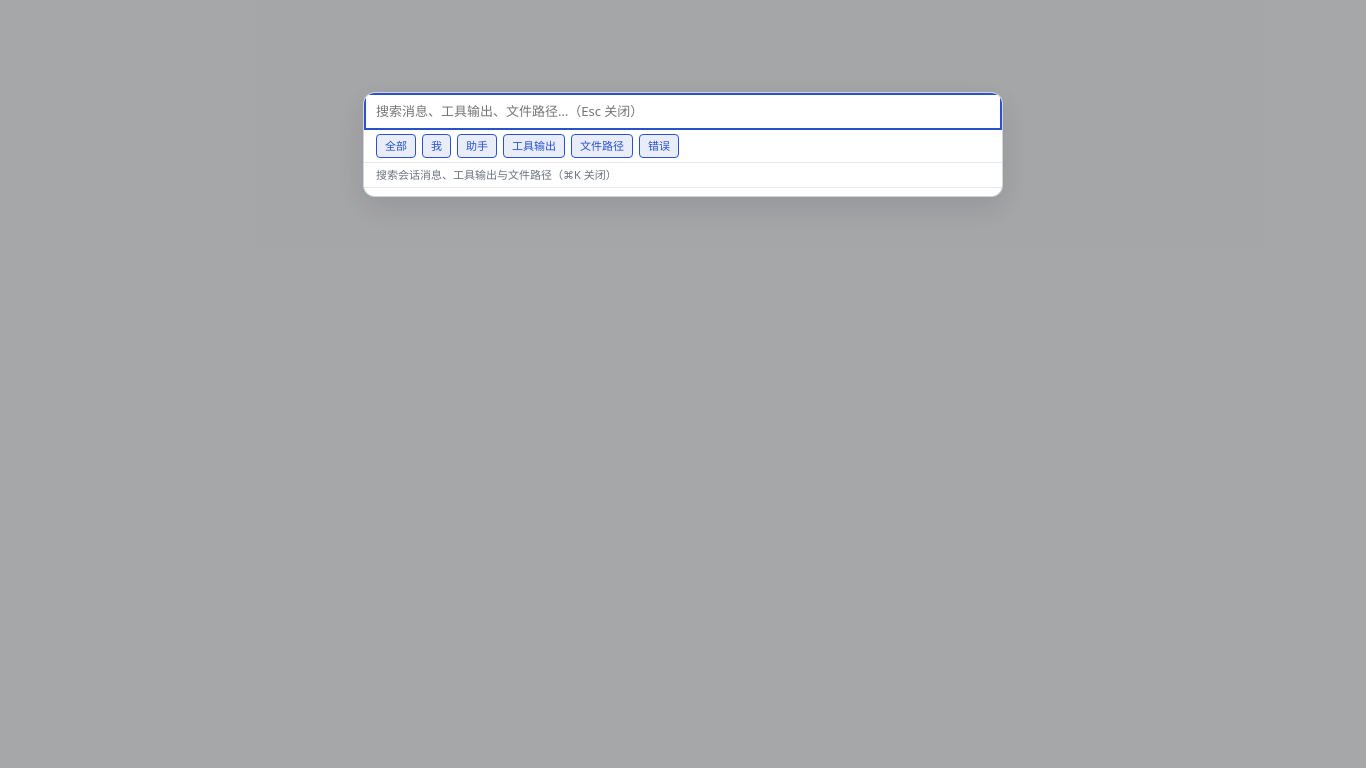
Test: SearchPalette › 无命中且索引完成 → 明确说没有匹配，并给出已索引条目数
Type "不存在的词" into the field named "搜索会话记录" at (683, 112), box [364,93,1002,130]
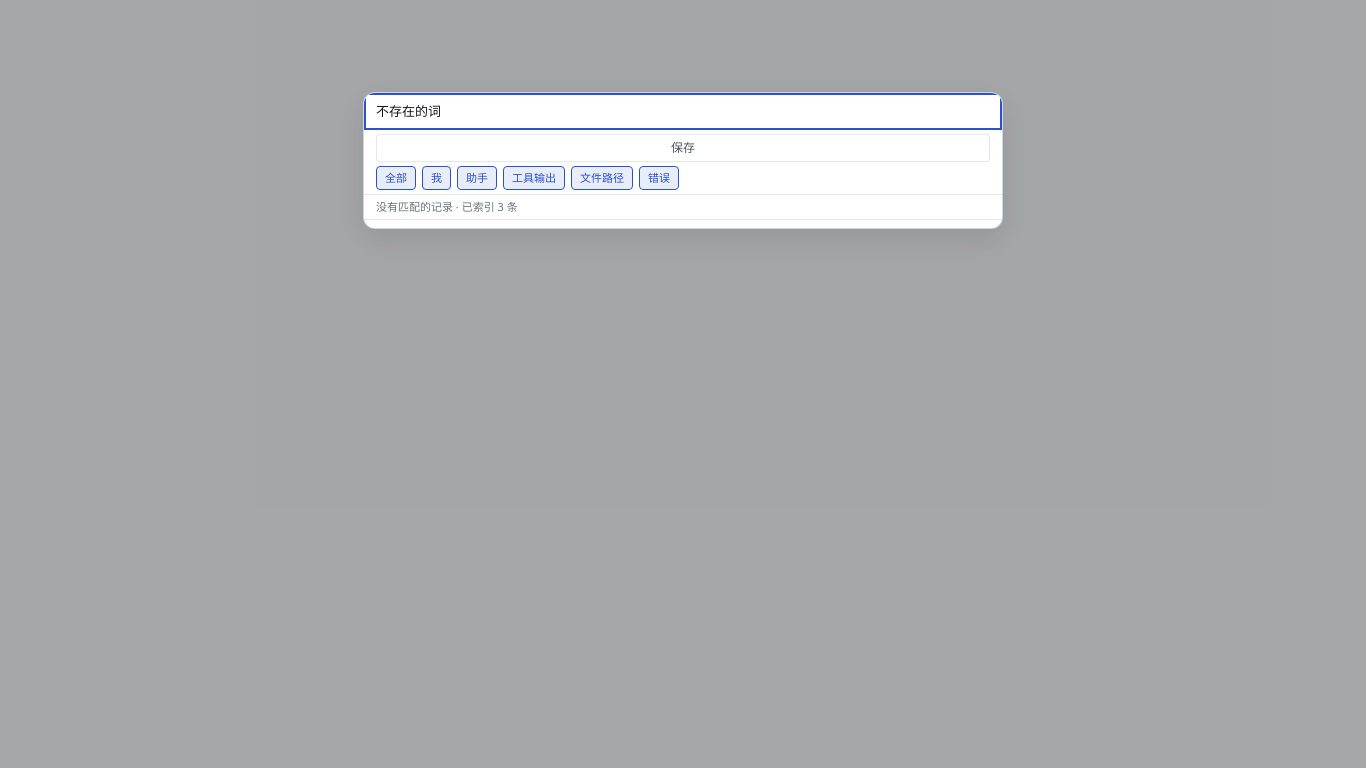
Now the text "没有匹配的记录 · 已索引 3 条" is shown, box [364,195,1002,220]
